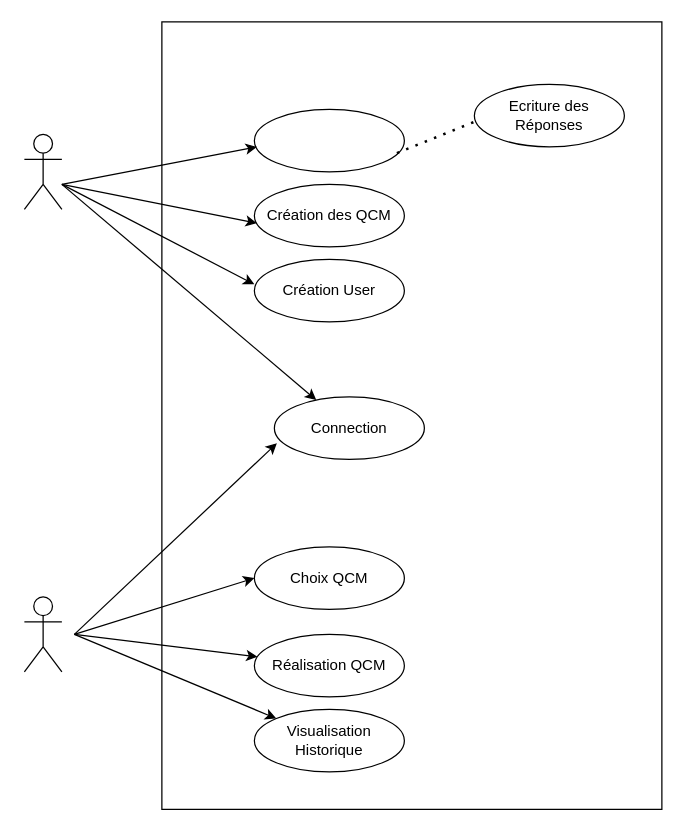
The diagram is 684 pixels wide and 831 high, and some of its shapes have lost their labels. Here are the shapes that lost their labels. From the top down, the box of each, then its label:
(253, 108, 404, 172): Rédaction des Question
(23, 133, 62, 209): Admin
(23, 596, 62, 672): User
